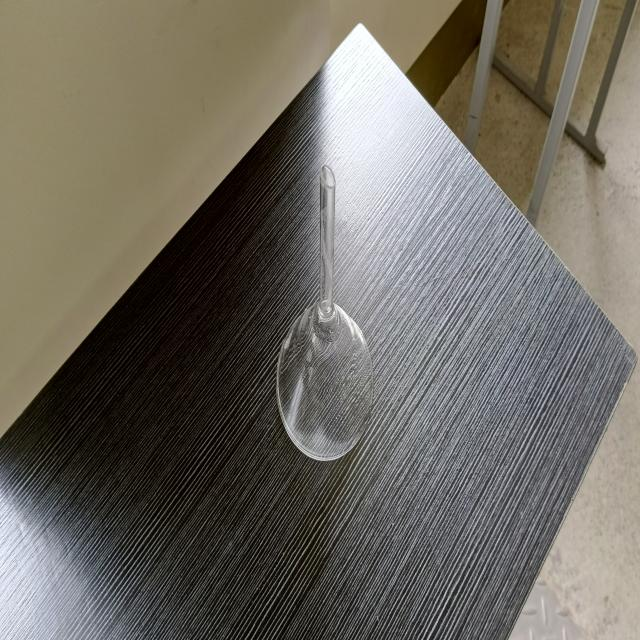funnel: (271, 162, 383, 465)
